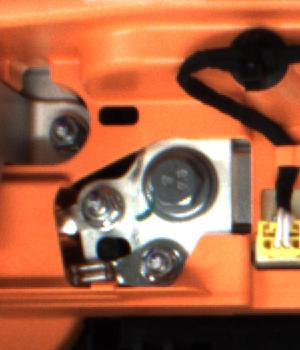nut_b: (133, 150, 217, 224)
screw_s: (134, 246, 184, 284), (48, 115, 82, 153), (83, 187, 113, 225)
